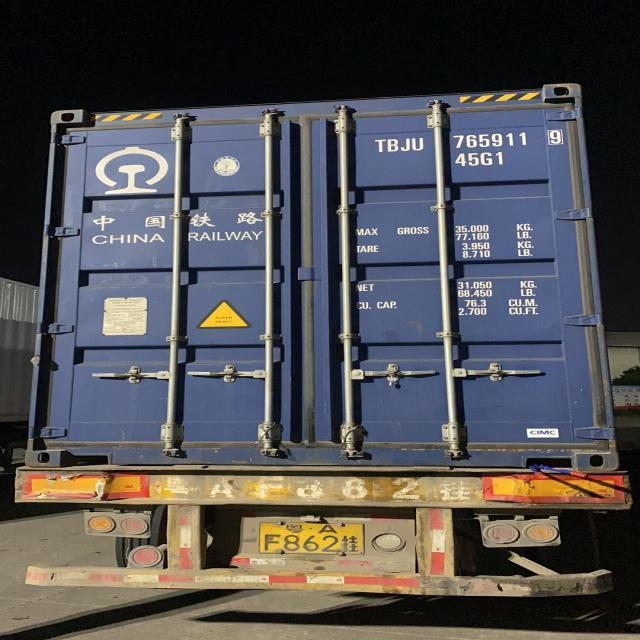ISO: (452, 151, 504, 170)
container_number: (378, 132, 554, 152), (456, 129, 564, 148)
